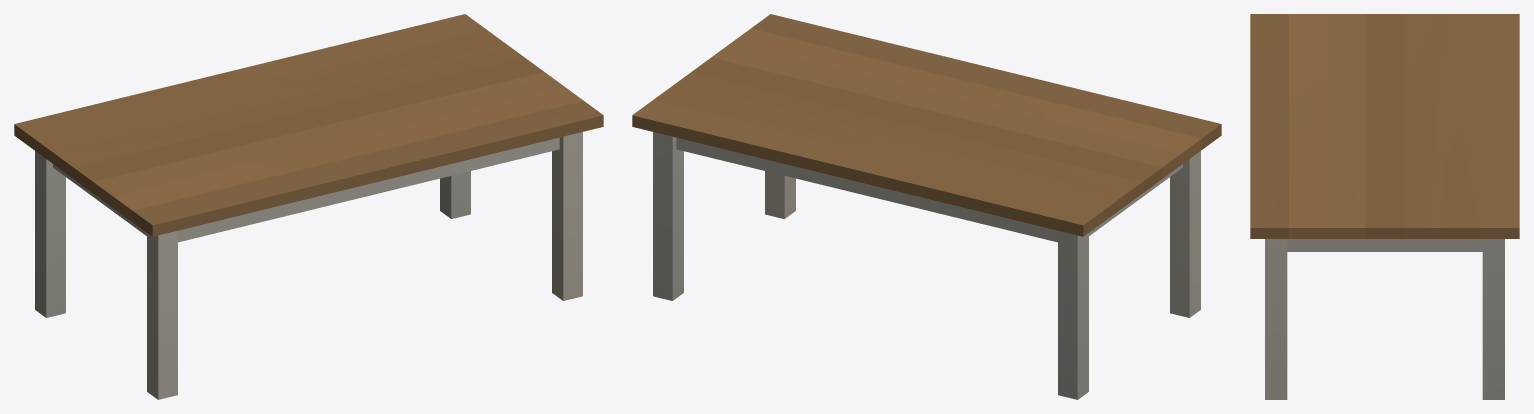
The model's file is table.dining.painted.glb.
The picture shows the model from 3 angles, left to right: view 1: azimuth 30°, elevation 25°; view 2: azimuth 150°, elevation 25°; view 3: azimuth 270°, elevation 25°; orthographic projection. The views are drawn at different scales.
Parts seen in each view (by area): view 1: table_dining_painted; view 2: table_dining_painted; view 3: table_dining_painted.
Part boxes in pixels (<box>): table_dining_painted: <box>14,14,603,399</box>; table_dining_painted: <box>632,14,1221,399</box>; table_dining_painted: <box>1250,14,1519,399</box>.
Size of what is drawn, in the model's own units: 2.06 by 0.8 by 1.1.
